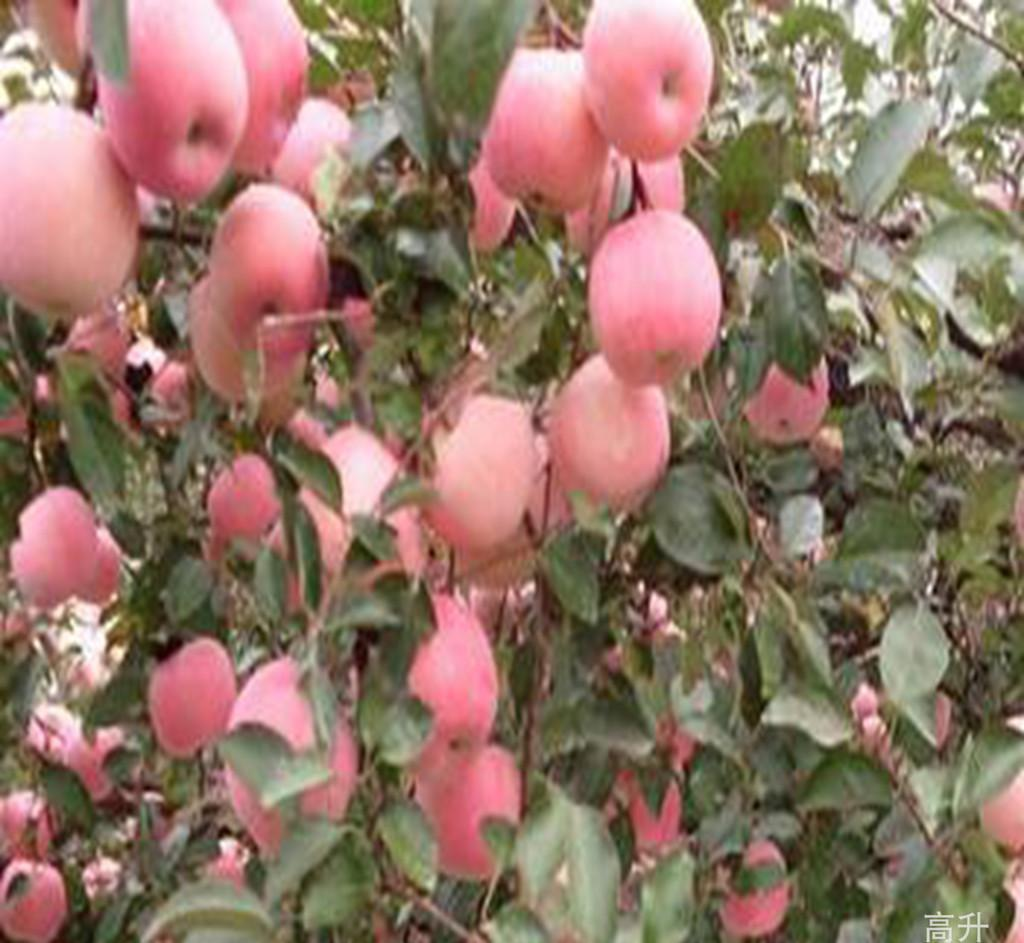apple: (86, 2, 254, 204), (1, 103, 138, 328), (585, 212, 719, 388), (376, 590, 495, 780), (578, 1, 718, 162), (208, 185, 331, 358), (480, 49, 609, 210), (553, 352, 670, 514), (147, 637, 238, 759)
